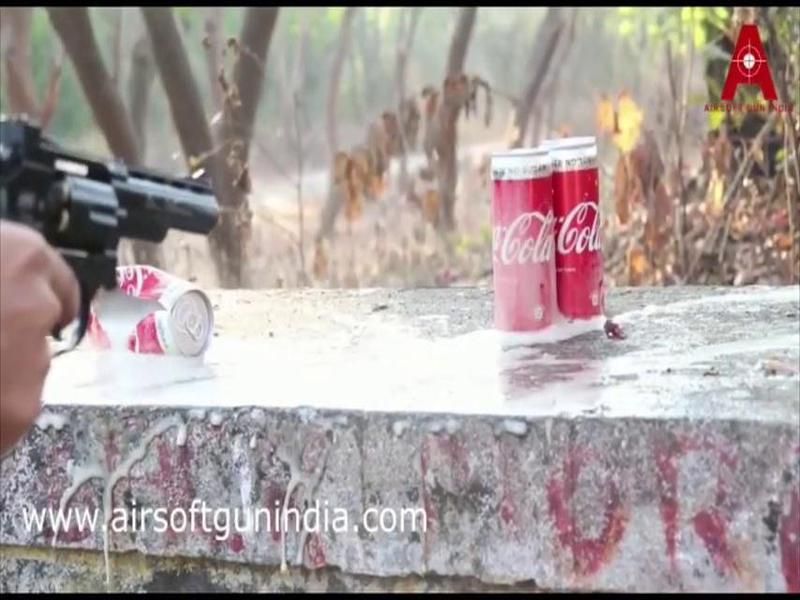Revolver: (1, 98, 229, 351)
